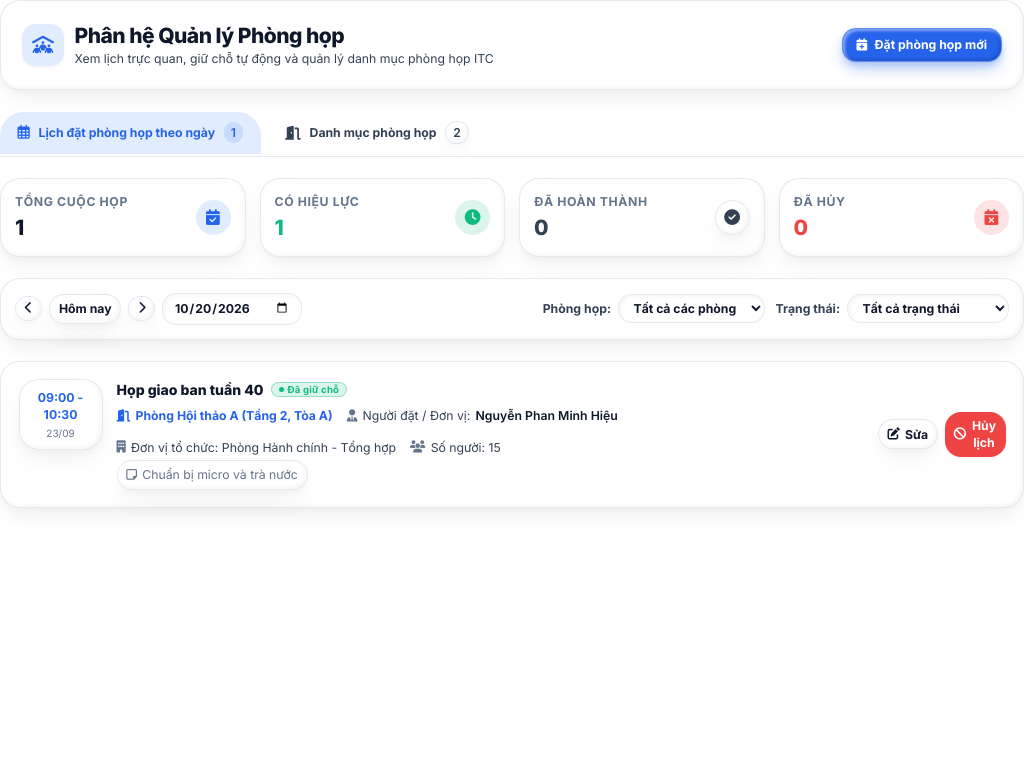
Test: MeetingsPage Component (Issue #22) › opens and closes booking modal when clicking "Đặt phòng họp mới"
Click the button "Đặt phòng họp mới" at (922, 45), box left=842, top=28, right=1002, bottom=62
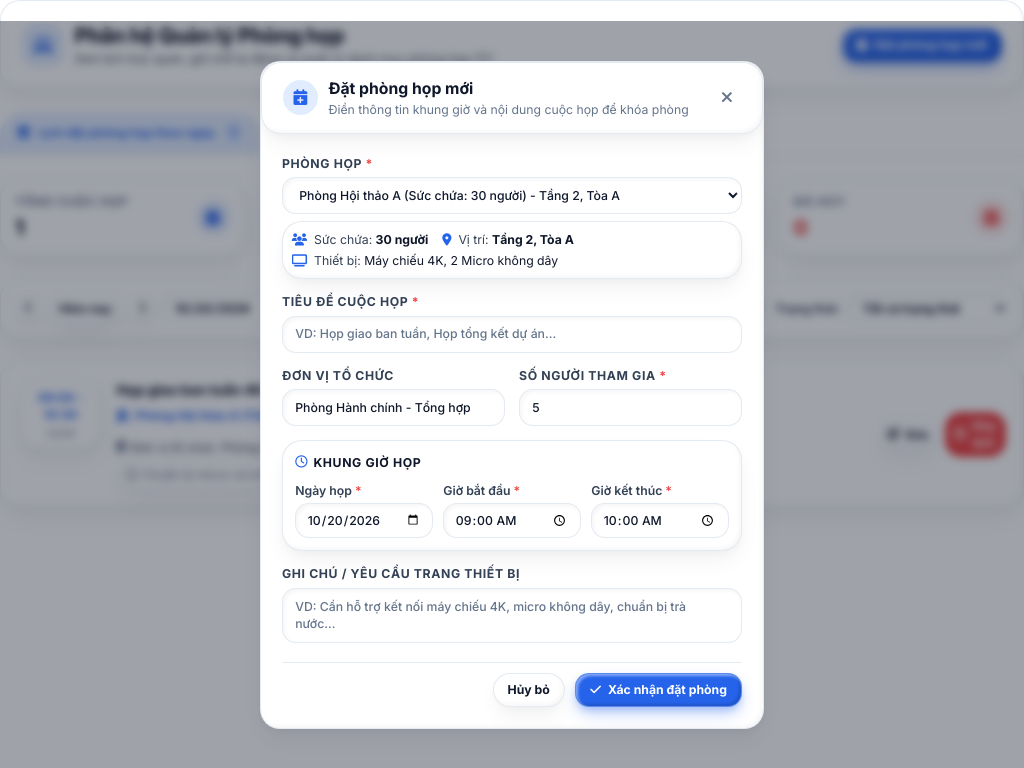
Now the text "Điền thông tin khung giờ và nội dung cuộc họp để khóa phòng" is shown, box left=328, top=101, right=689, bottom=118
Click the button "Hủy bỏ" at (529, 690), box left=493, top=673, right=565, bottom=706
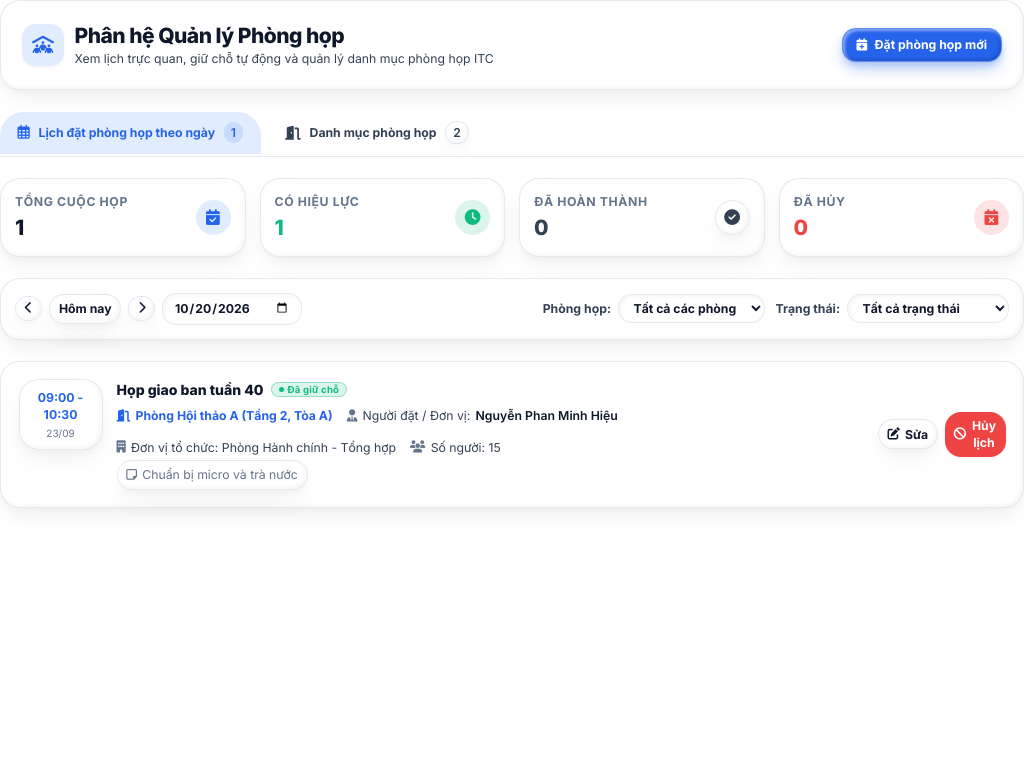
Now the text "Điền thông tin khung giờ và nội dung cuộc họp để khóa phòng" is gone
